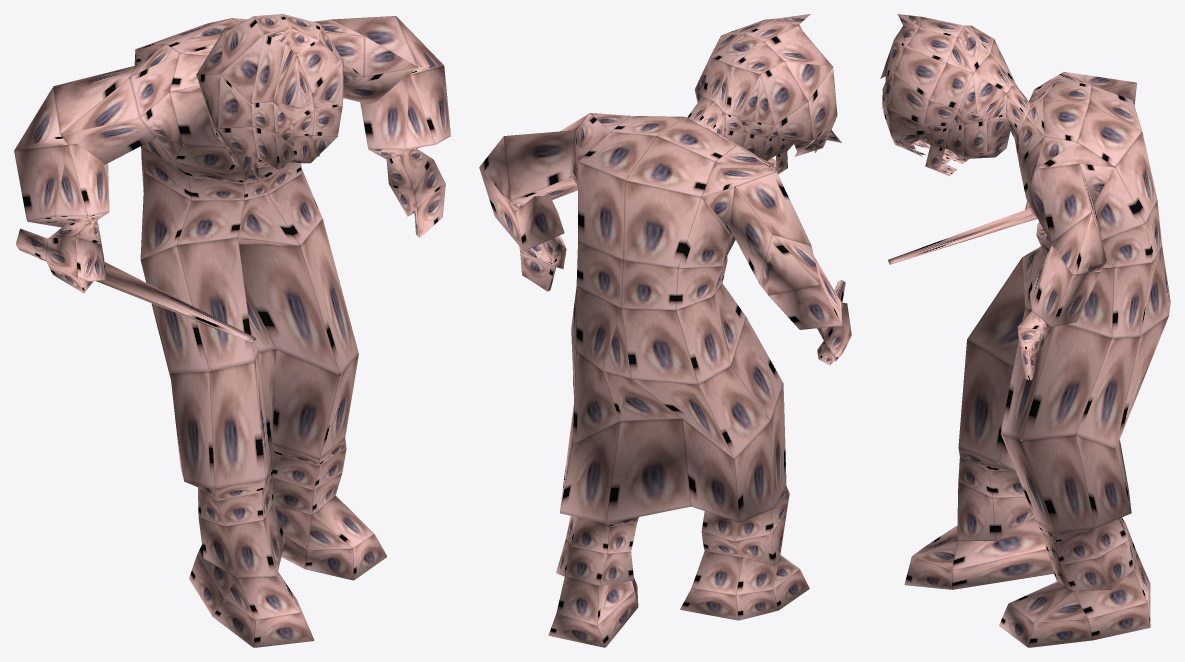
3 renders of one model, left to right at view 1: azimuth 30°, elevation 25°; view 2: azimuth 150°, elevation 25°; view 3: azimuth 270°, elevation 25°, orthographic. The views are drawn at different scales.
Parts seen in each view (by area): view 1: T1L2M005_0; view 2: T1L2M005_0; view 3: T1L2M005_0.
Boxes of the visible parts, box(x1,y1,x2,y2) form: T1L2M005_0: box(14, 14, 450, 647); T1L2M005_0: box(479, 14, 851, 647); T1L2M005_0: box(880, 14, 1170, 647).
Size of the model in its own units: 0.8007 by 1.15 by 0.546.
